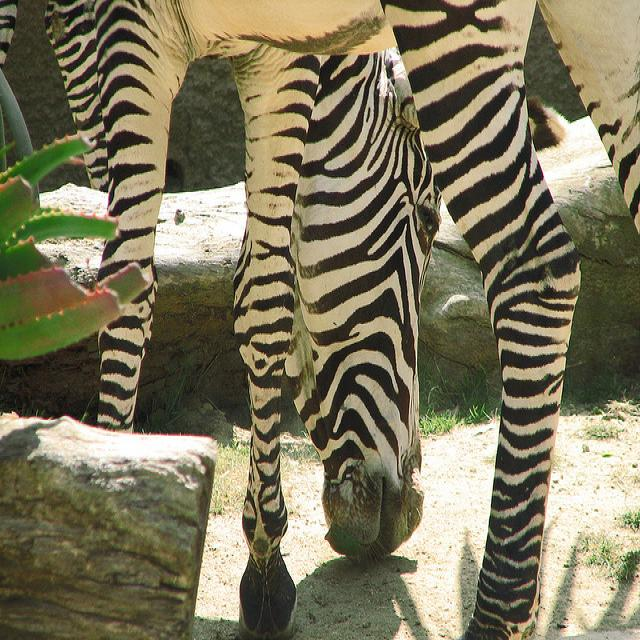zebra: (77, 4, 640, 628)
